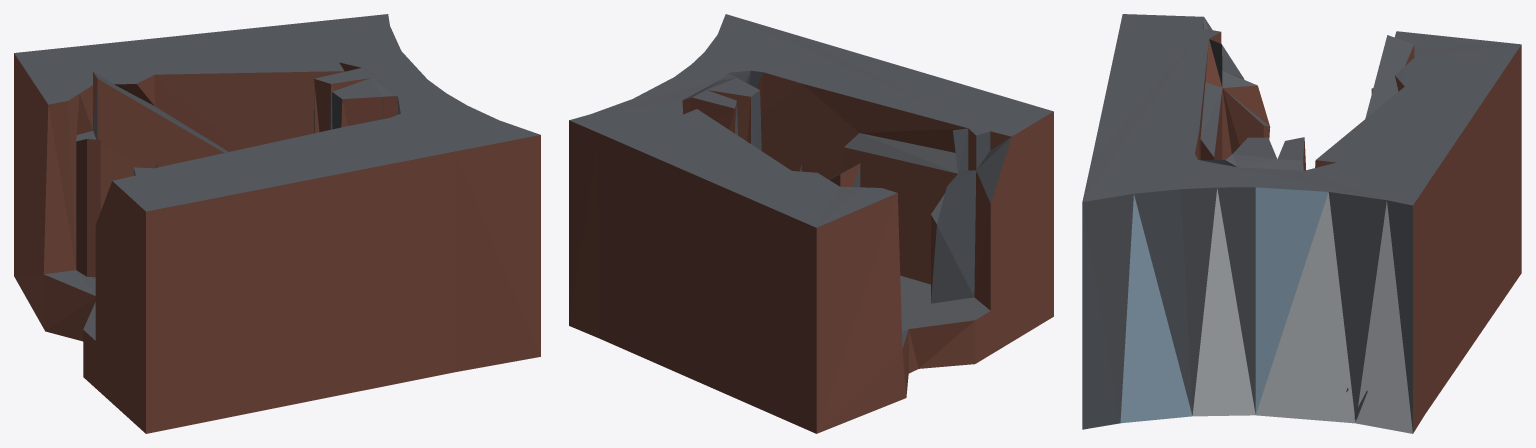
The model's file is woongebouw-wladiwostok.lod2.glb.
3 views of the same model, side by side, from view 1: azimuth 30°, elevation 25°; view 2: azimuth 150°, elevation 25°; view 3: azimuth 270°, elevation 25° (orthographic). The views are drawn at different scales.
Visible parts, largest first — view 1: lod2; view 2: lod2; view 3: lod2.
Part boxes in pixels (bbox=[...]): lod2: bbox=[14, 14, 540, 433]; lod2: bbox=[569, 14, 1053, 433]; lod2: bbox=[1082, 14, 1521, 433].
Size of the model in its own units: 49.77 by 29.9 by 48.13.
